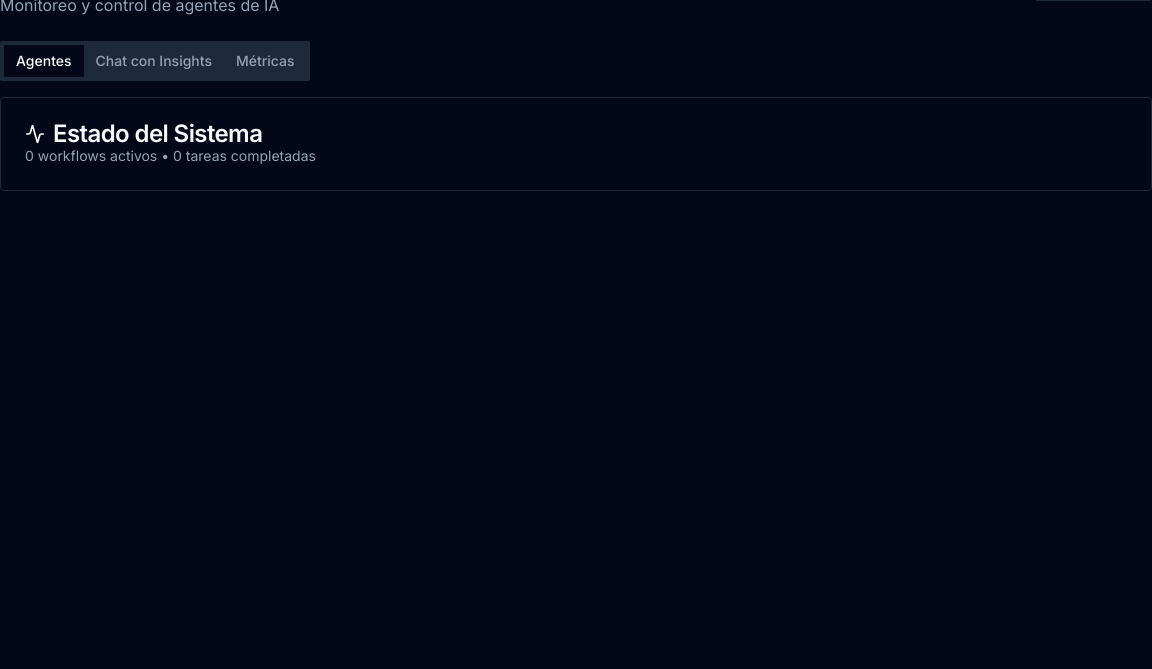
Scenario: Chat con Insights — citas por burbuja › la burbuja del asistente muestra las fuentes consultadas
This screenshot has width=1152, height=669.
Press the mouse on the tab "Chat con Insights": x=154, y=61 x1=84 y1=45 x2=224 y2=77
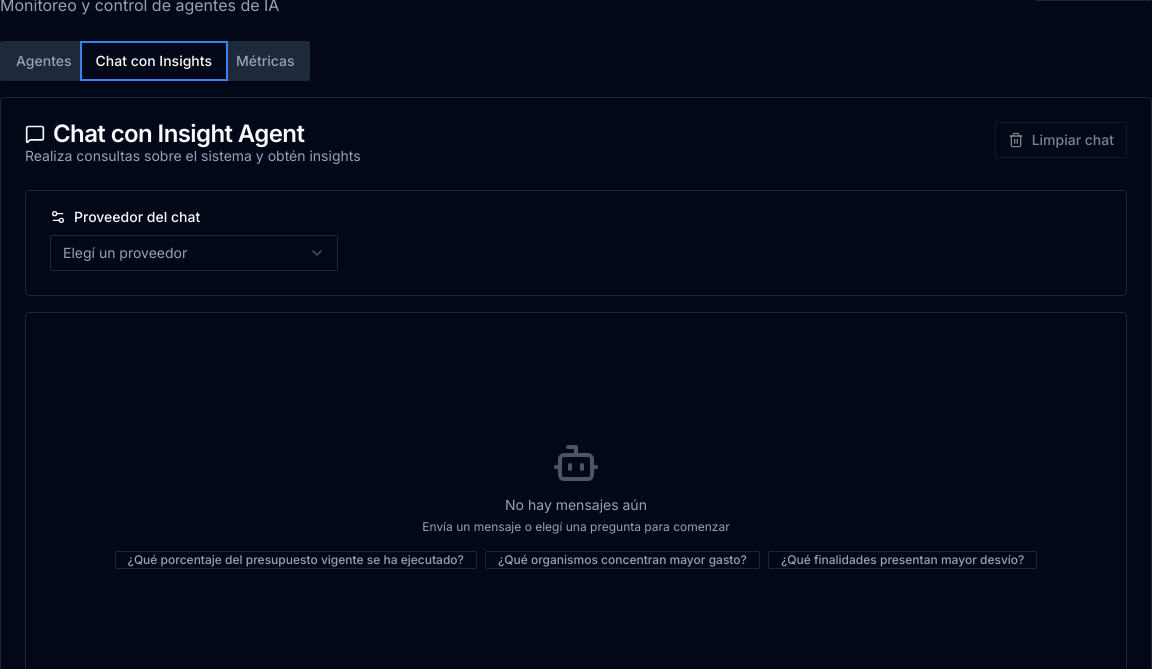
Press Enter in the tab "Chat con Insights", box x1=84 y1=45 x2=224 y2=77
Click the tab "Chat con Insights": x=154, y=61 x1=84 y1=45 x2=224 y2=77
(page scrolled)
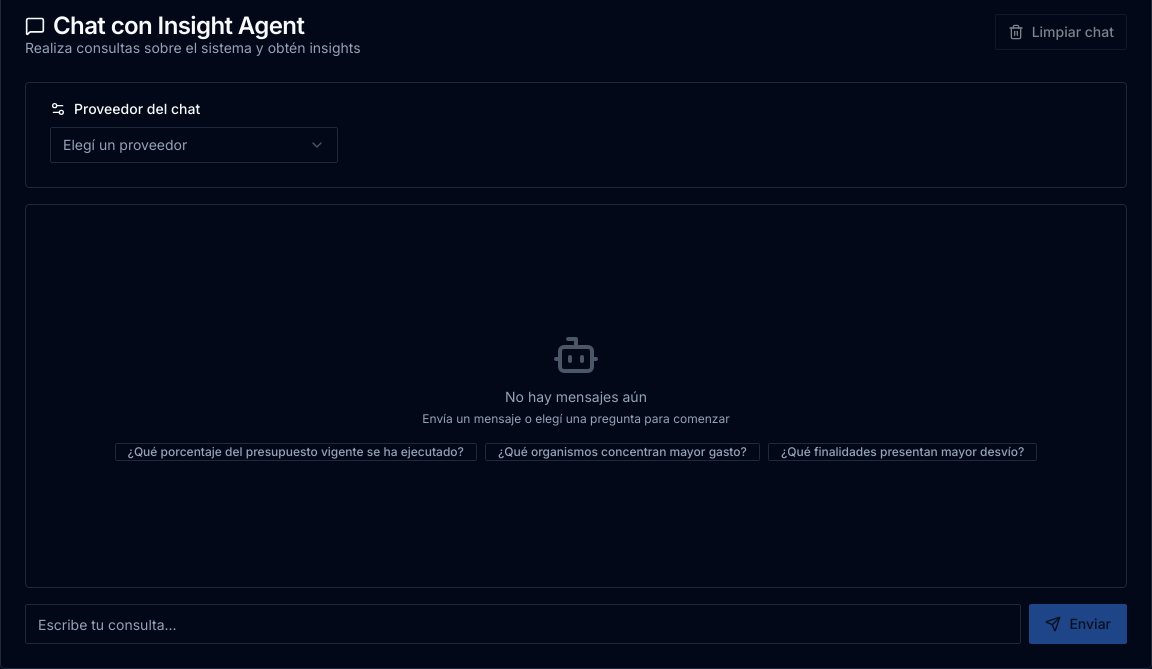
In the field with placeholder "Escribe tu consulta...": x=523, y=624 x1=25 y1=604 x2=1021 y2=644, type "¿Qué organismos concentran mayor gasto?"
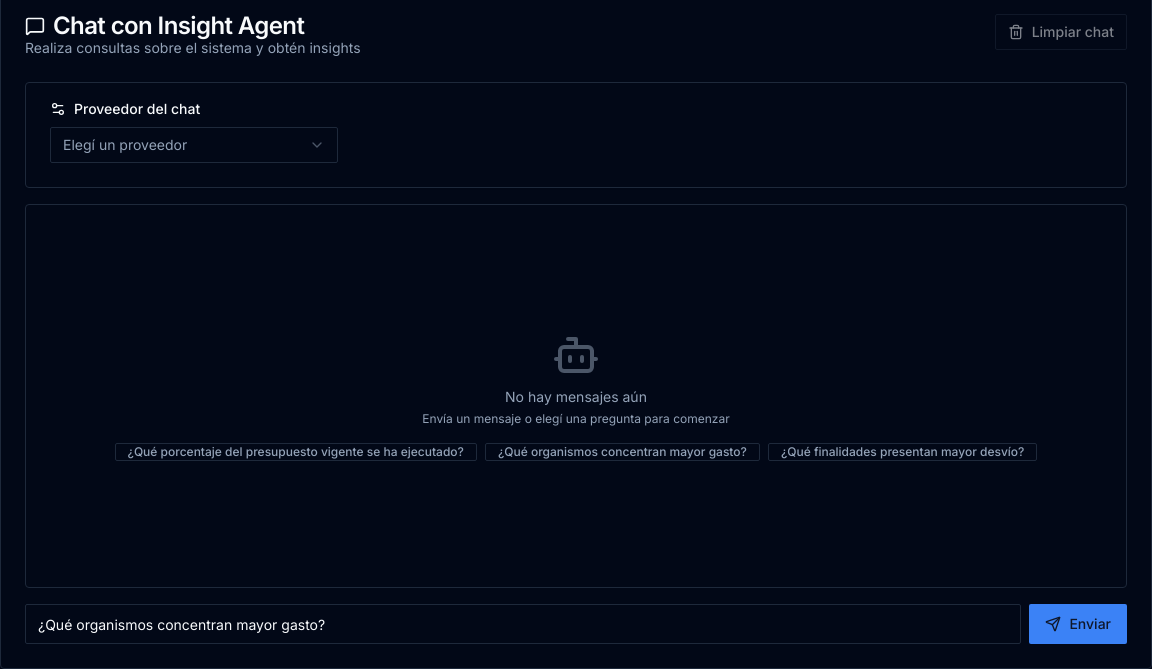
Click the button "Enviar": x=1078, y=624 x1=1029 y1=604 x2=1127 y2=644
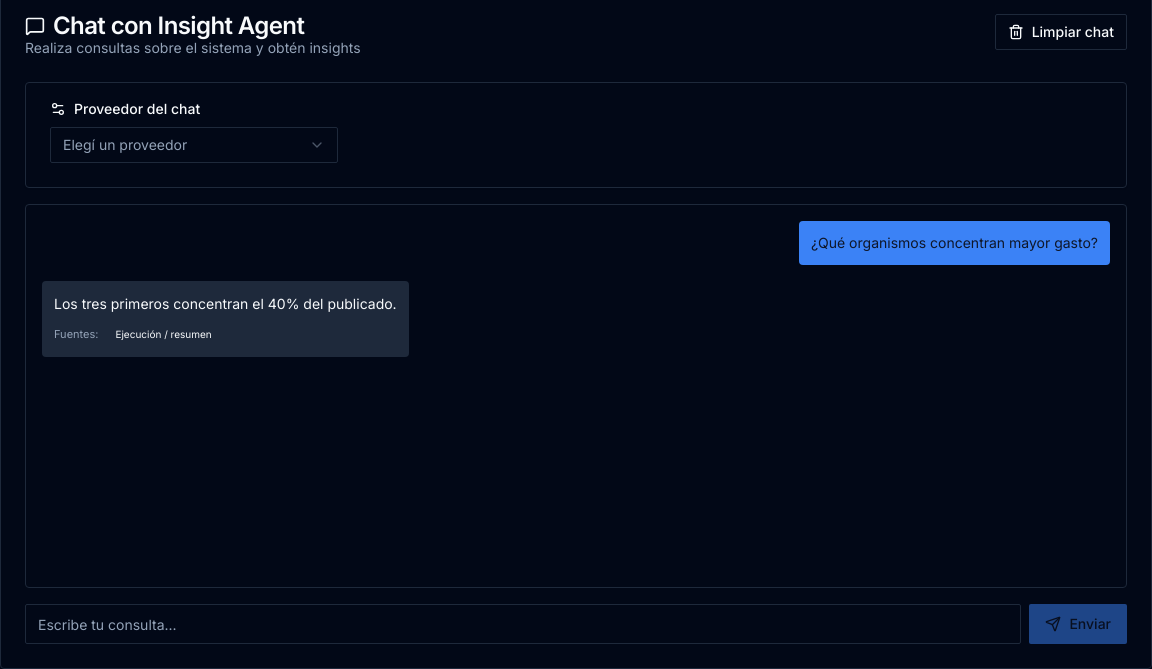
Expected: the text "Los tres primeros concentran el 40% del publicado." is shown, x1=54 y1=293 x2=397 y2=316
Expected: the element with test id "chat-sources" shows "Fuentes:", x1=54 y1=327 x2=98 y2=341
Expected: the text with test id "chat-source-ejecucion_resumen" reads "Ejecución / resumen", x1=115 y1=328 x2=212 y2=340
